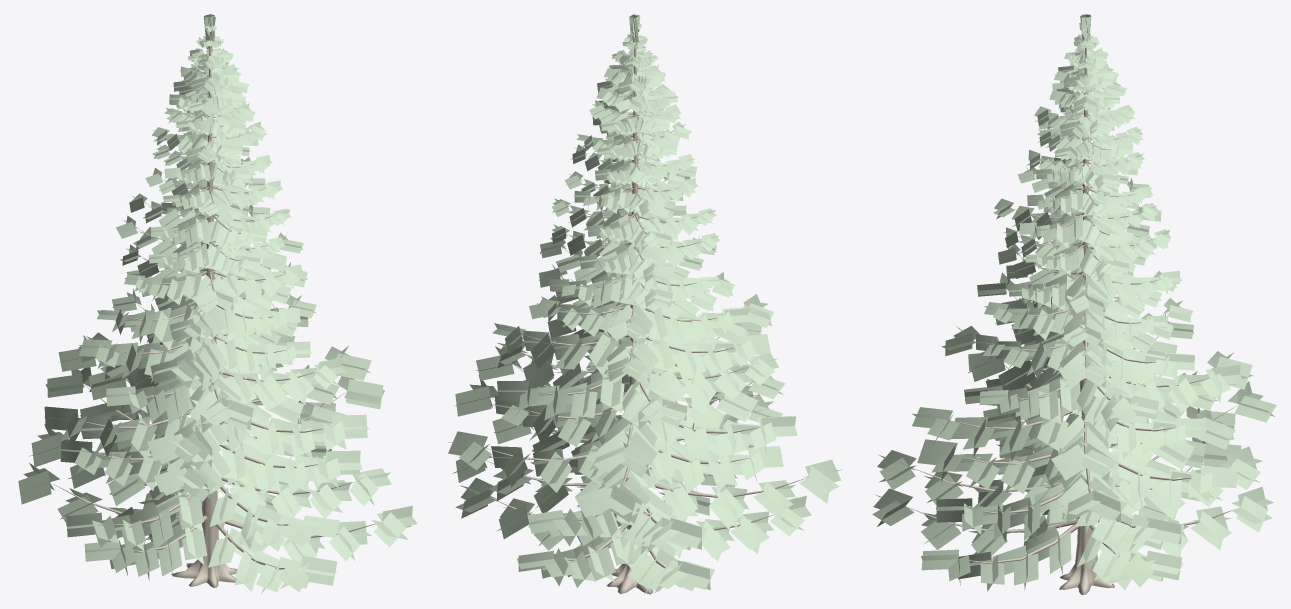
Rendered from tree-2.gltf.
3 views of the same model, side by side, from view 1: azimuth 30°, elevation 25°; view 2: azimuth 150°, elevation 25°; view 3: azimuth 270°, elevation 25° (orthographic).
Parts seen in each view (by area): view 1: TerraWeave Arbor; view 2: TerraWeave Arbor; view 3: TerraWeave Arbor.
Boxes of the visible parts, box(x1,y1,x2,y2) form: TerraWeave Arbor: box(18, 14, 417, 593); TerraWeave Arbor: box(448, 14, 842, 594); TerraWeave Arbor: box(872, 14, 1276, 594).
Size of the model in its own units: 16.06 by 25.05 by 16.27.
